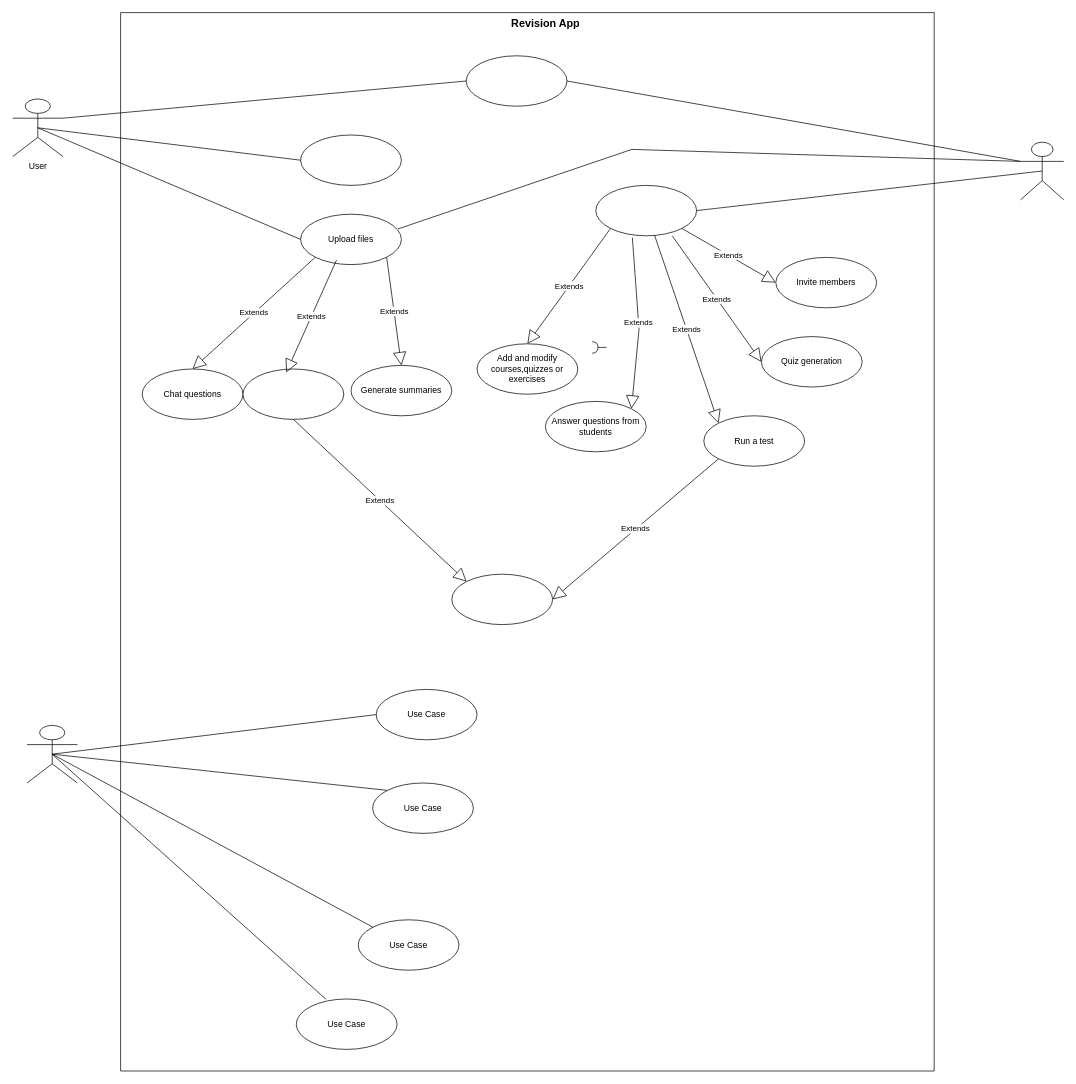
The diagram is 1076 pixels wide and 1084 high, and some of its shapes have lost their labels. Here are the shapes that lost their labels. From the top down, the box of each, then its label:
(465, 55, 567, 106): Authentification
(300, 134, 401, 185): Accept invitation
(1020, 141, 1064, 200): Teacher
(595, 185, 697, 236): Class creation
(242, 368, 344, 419): Take quizes
(451, 573, 553, 625): Tract progress
(26, 725, 77, 783): Administrator
